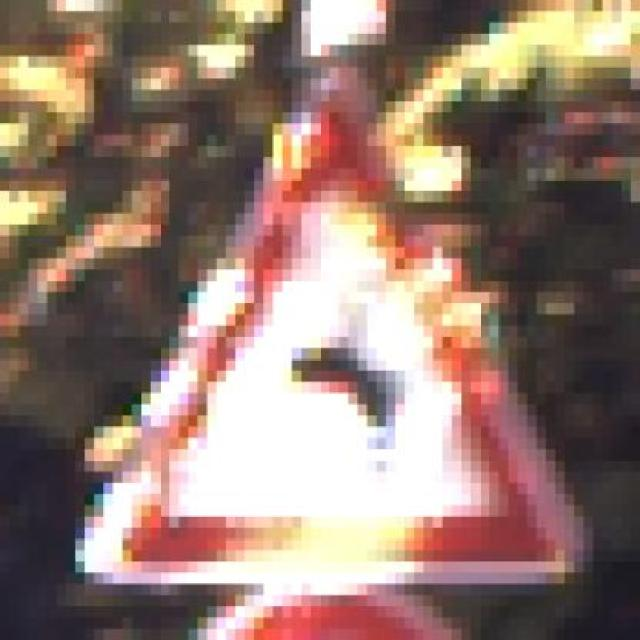Dangerous Left Curve Ahead: (65, 44, 593, 584)
